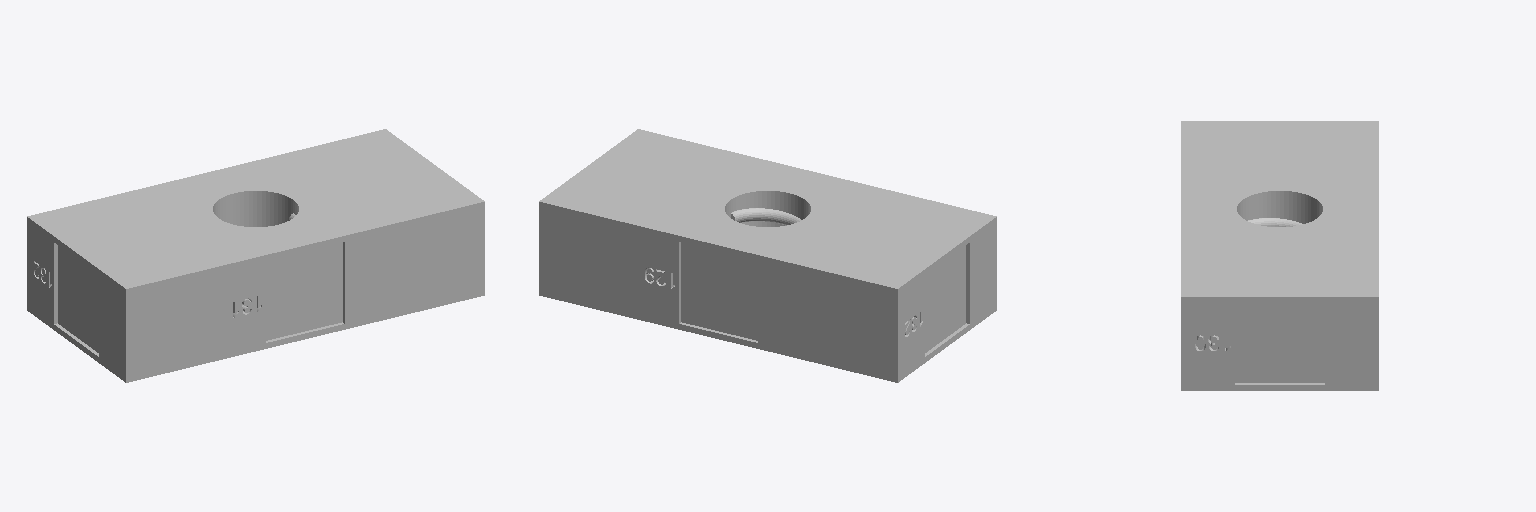
Rendered from cabinet_top.obj.
3 renders of one model, left to right at view 1: azimuth 30°, elevation 25°; view 2: azimuth 150°, elevation 25°; view 3: azimuth 270°, elevation 25°, orthographic.
Parts seen in each view (by area): view 1: cabinet_top_v15, cabinet_top_v15.003, cabinet_top_v15.004; view 2: cabinet_top_v15, cabinet_top_v15.001, cabinet_top_v15.004; view 3: cabinet_top_v15, cabinet_top_v15.002.
Boxes of the visible parts, box(x1,y1,x2,y2) form: cabinet_top_v15: box(27, 129, 484, 382); cabinet_top_v15.003: box(266, 242, 344, 342); cabinet_top_v15.004: box(54, 243, 98, 356); cabinet_top_v15: box(539, 129, 996, 382); cabinet_top_v15.001: box(679, 242, 757, 342); cabinet_top_v15.004: box(925, 243, 969, 356); cabinet_top_v15: box(1181, 121, 1378, 390); cabinet_top_v15.002: box(1235, 302, 1324, 384).
Bounding box in the file's own units: 0.12 × 0.03 × 0.0575.